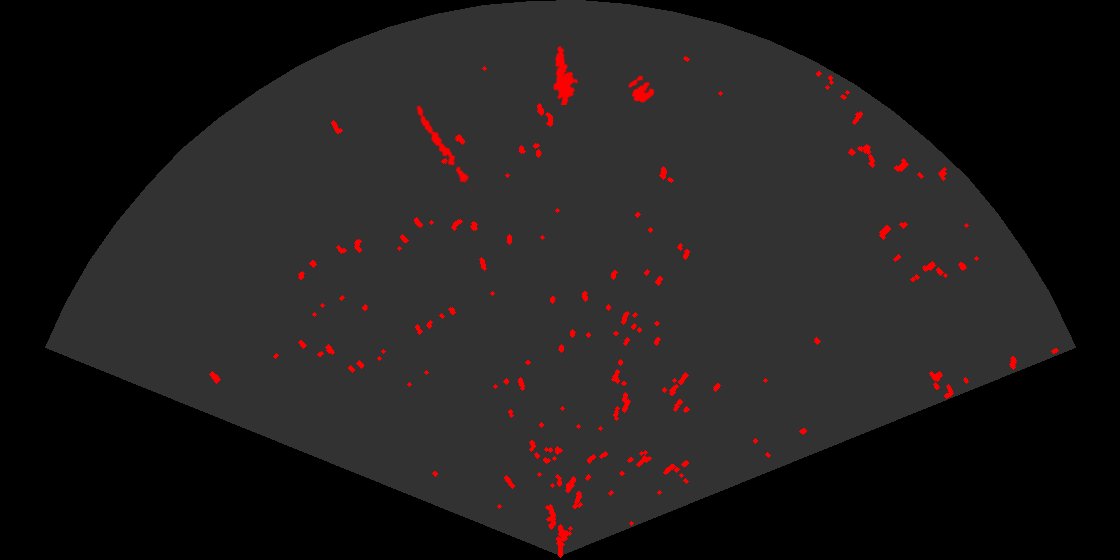ball: (627, 74, 656, 104)
chain: (415, 104, 476, 193)
frogman: (552, 44, 580, 105)
